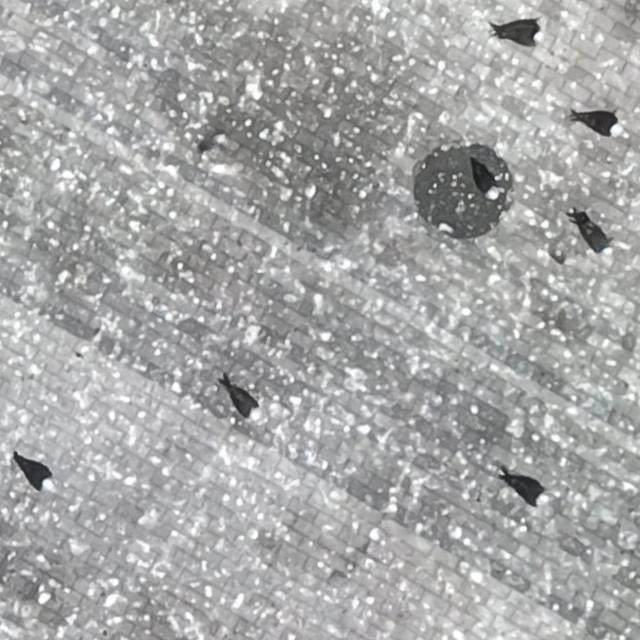umineko: (507, 476, 546, 503), (228, 386, 258, 420), (580, 222, 610, 256), (473, 162, 500, 198), (498, 23, 544, 44), (20, 461, 52, 489), (580, 113, 620, 135)
